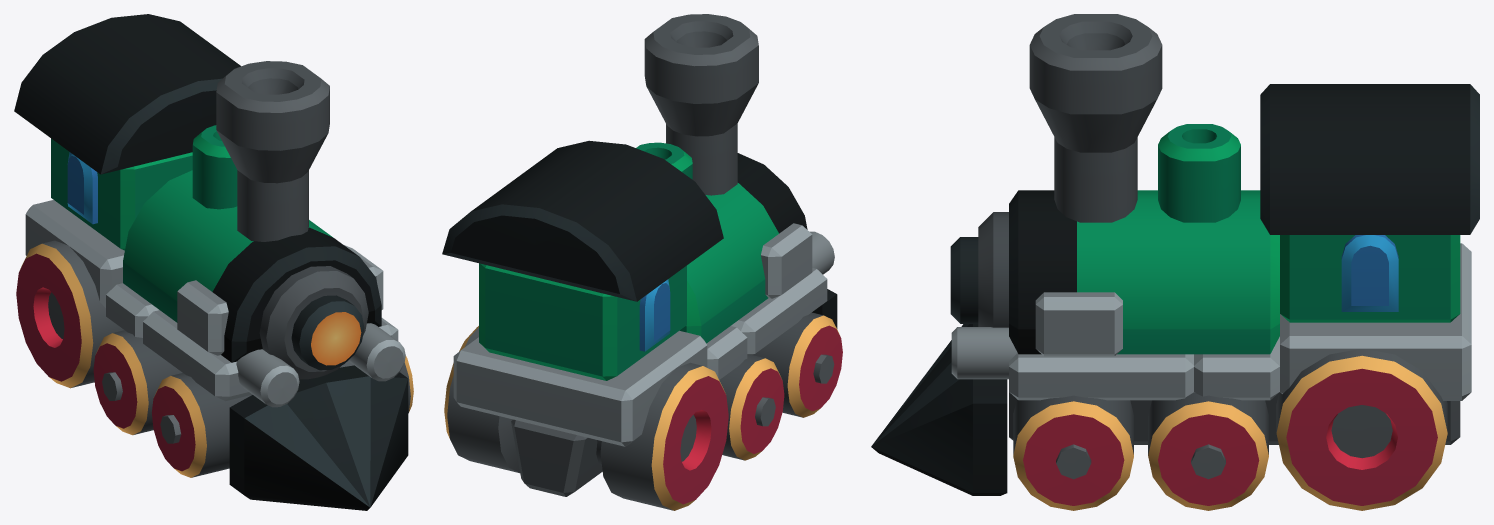
File: train_locomotive.fbx
3 renders of one model, left to right at view 1: azimuth 30°, elevation 25°; view 2: azimuth 150°, elevation 25°; view 3: azimuth 270°, elevation 25°, orthographic. The views are drawn at different scales.
Visible parts, largest first — view 1: train_locomotive; view 2: train_locomotive; view 3: train_locomotive.
Boxes of the visible parts, left/top/right/bottom form: train_locomotive: left=14, top=14, right=413, bottom=510; train_locomotive: left=442, top=14, right=842, bottom=510; train_locomotive: left=871, top=14, right=1479, bottom=510.
Size of the model in its own units: 0.4324 by 0.6487 by 0.8578.
